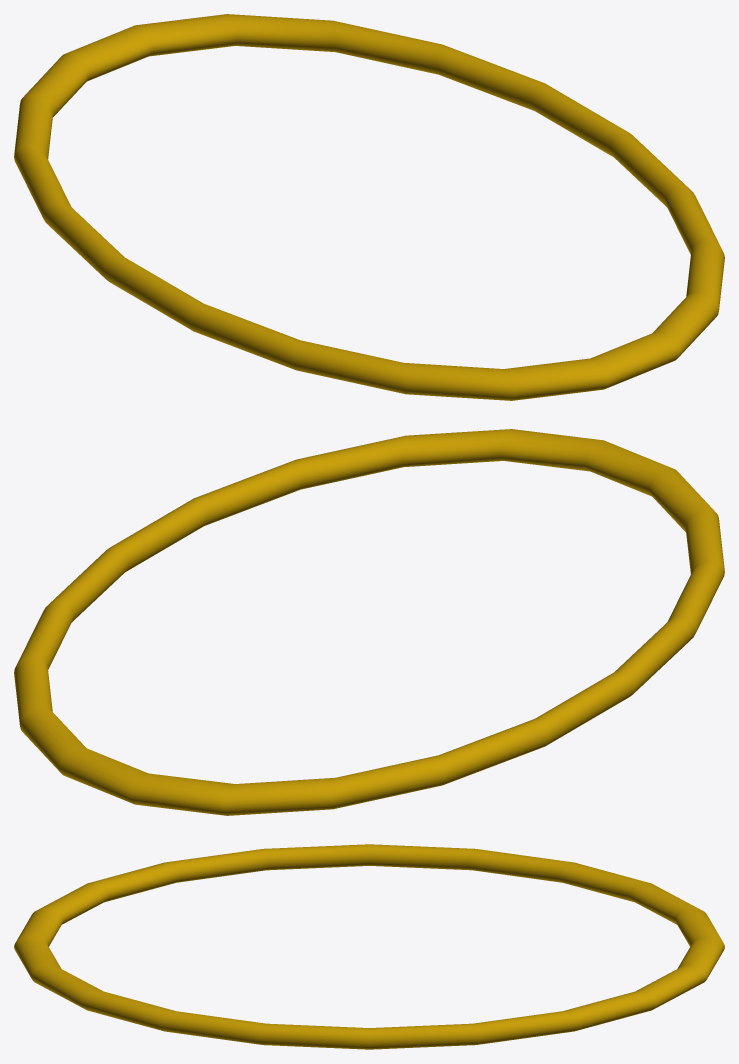
Rendered from PlaceNeckholder.fbx.
The picture shows the model from 3 angles, top to bottom: view 1: azimuth 30°, elevation 25°; view 2: azimuth 150°, elevation 25°; view 3: azimuth 270°, elevation 25°; orthographic projection. The views are drawn at different scales.
Visible parts, largest first — view 1: pTorus1; view 2: pTorus1; view 3: pTorus1.
Part boxes in pixels (box(x1,y1,x2,y2)): pTorus1: box(14, 14, 724, 400); pTorus1: box(14, 429, 724, 815); pTorus1: box(14, 844, 724, 1049).
Size of the model in its own units: 2.1 by 0.1 by 3.27.
